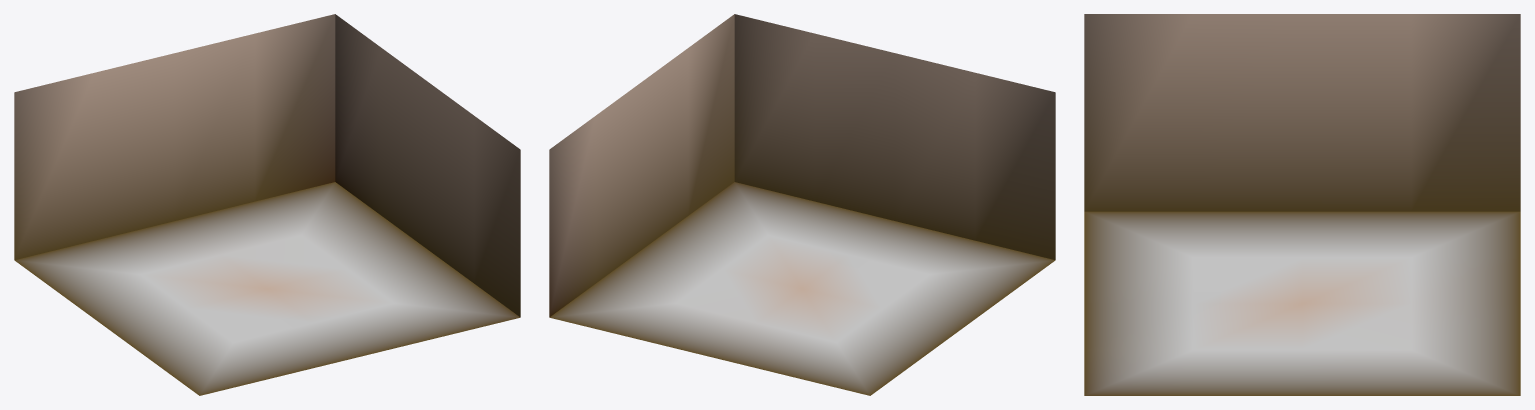
The model's file is background_texture_test.glb.
3 renders of one model, left to right at view 1: azimuth 30°, elevation 25°; view 2: azimuth 150°, elevation 25°; view 3: azimuth 270°, elevation 25°, orthographic. The views are drawn at different scales.
Visible parts, largest first — view 1: Plane; view 2: Plane; view 3: Plane.
Part boxes in pixels (left/top/right/bottom): Plane: left=14, top=14, right=520, bottom=395; Plane: left=549, top=14, right=1055, bottom=395; Plane: left=1084, top=14, right=1520, bottom=395.
Size of the model in its own units: 10 by 5 by 10.
